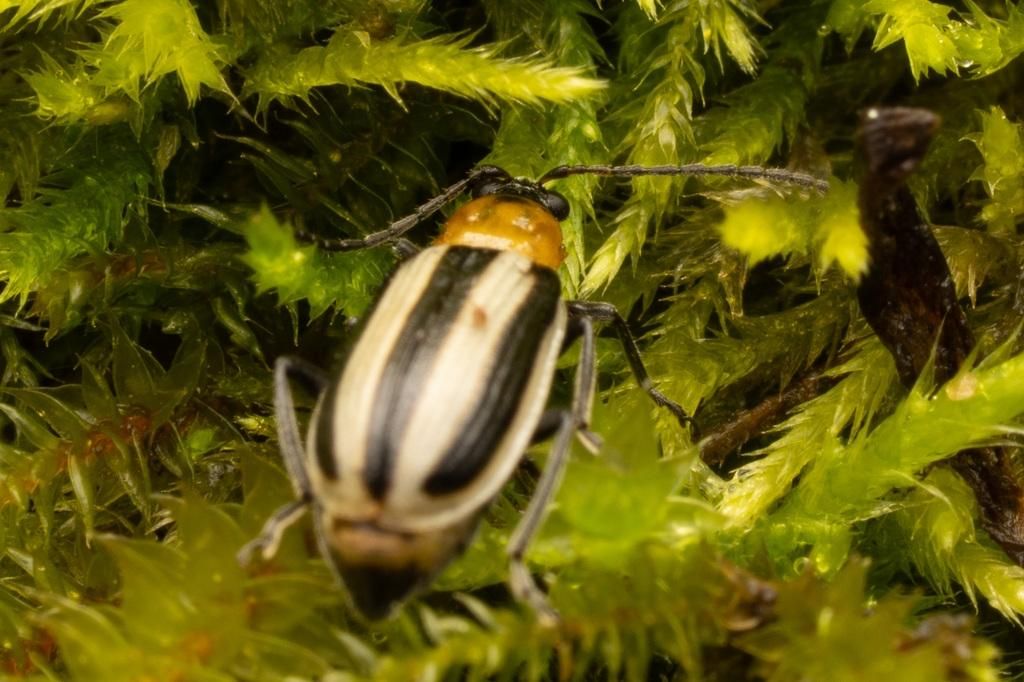potato_beetle: (162, 121, 846, 682)
